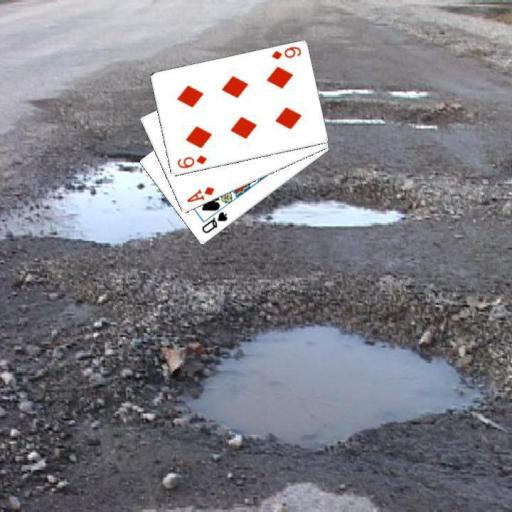card-corner: (198, 208, 229, 236), (184, 184, 216, 204), (174, 152, 208, 170), (268, 44, 302, 62)
